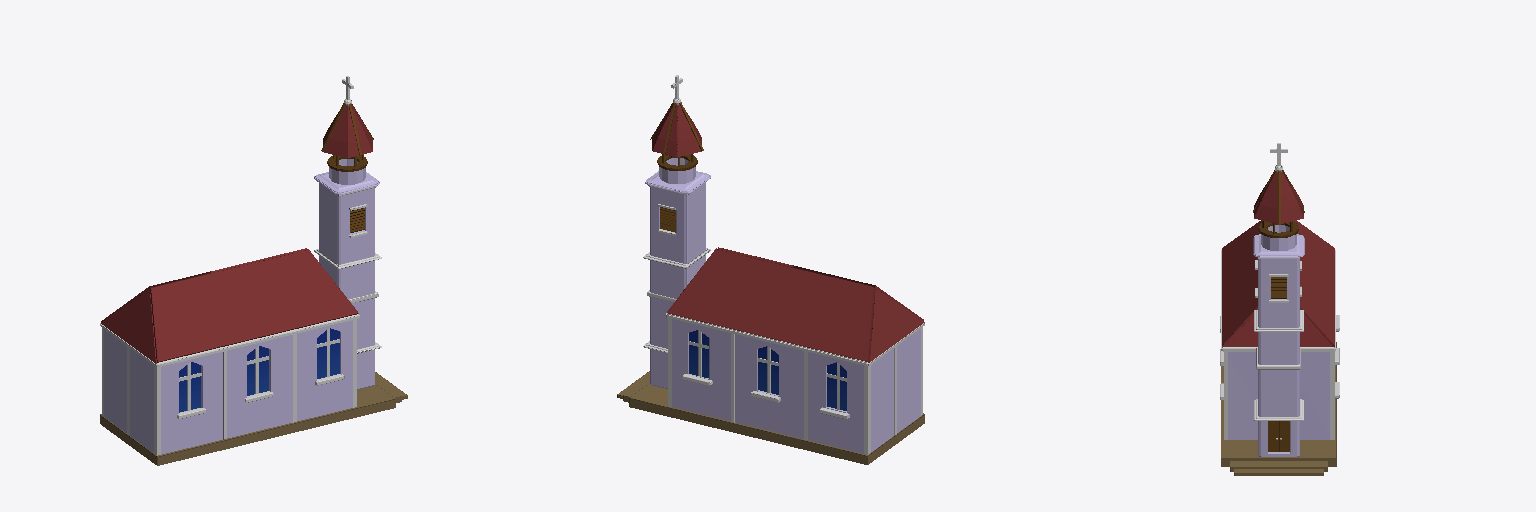
3 views of the same model, side by side, from view 1: azimuth 30°, elevation 25°; view 2: azimuth 150°, elevation 25°; view 3: azimuth 270°, elevation 25° (orthographic).
Size of the model in its own units: 574 by 670 by 230.
1 materials, 1 textured.